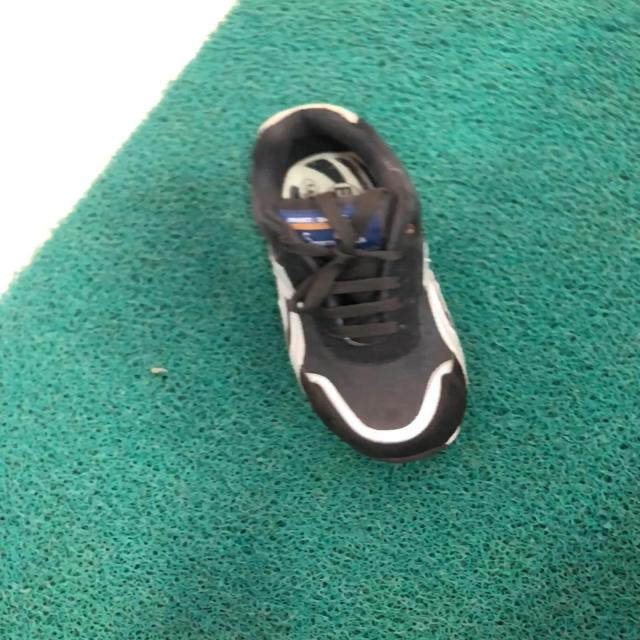shoe: (250, 106, 471, 468)
